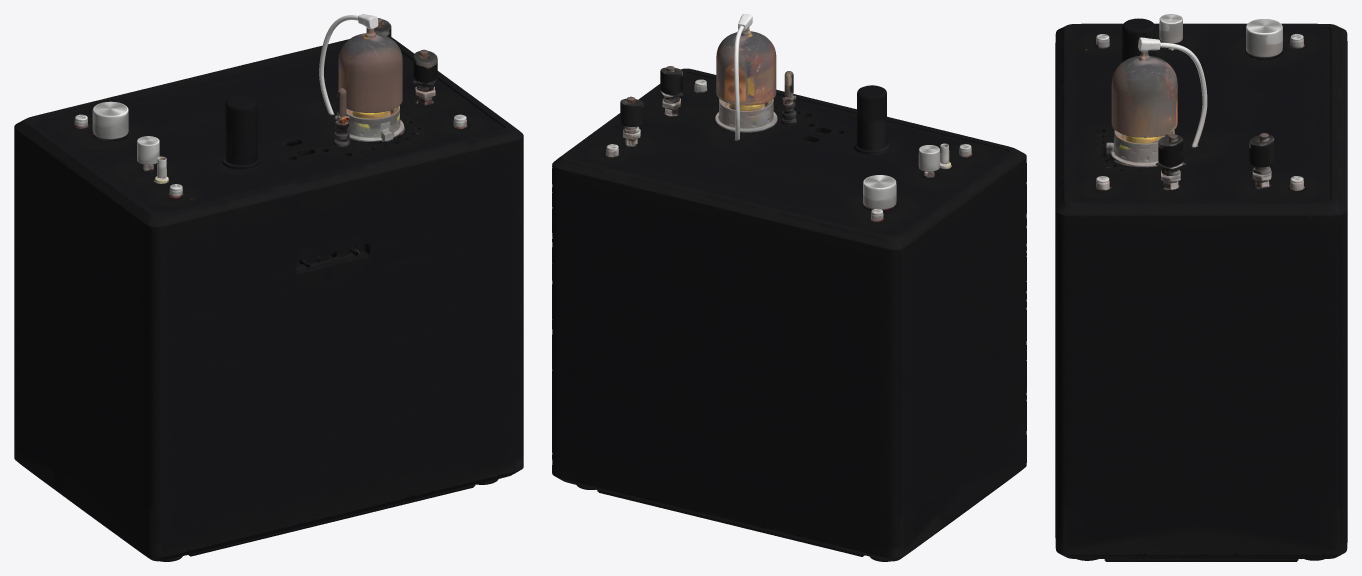
The model's file is Meshy_AI_Vacuum_Tube_Amplifier_0724090757_texture.glb.
3 views of the same model, side by side, from view 1: azimuth 30°, elevation 25°; view 2: azimuth 150°, elevation 25°; view 3: azimuth 270°, elevation 25° (orthographic). The views are drawn at different scales.
Visible parts, largest first — view 1: mesh_node; view 2: mesh_node; view 3: mesh_node.
Boxes of the visible parts, x1,y1,x2,y2 form: mesh_node: [14, 14, 523, 561]; mesh_node: [552, 14, 1026, 561]; mesh_node: [1055, 14, 1347, 561].
Bounding box in the file's own units: 1.62 × 1.9 × 1.06.
1 material, 1 textured.
